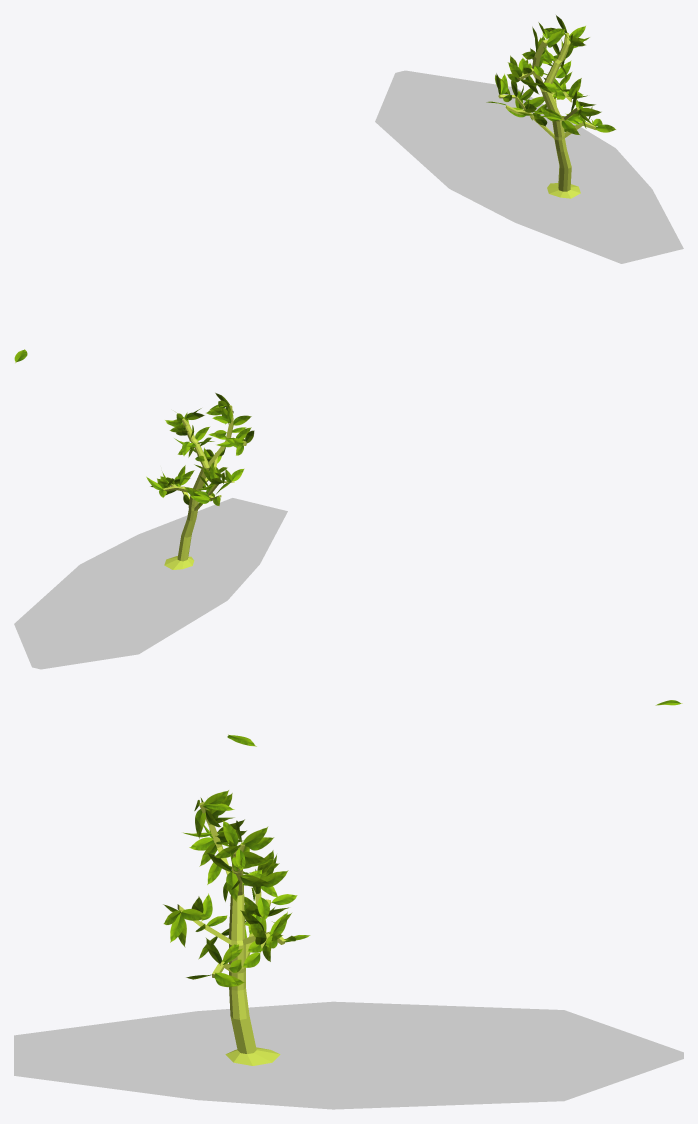
File: green_stalk.glb
3 renders of one model, top to bottom at view 1: azimuth 30°, elevation 25°; view 2: azimuth 150°, elevation 25°; view 3: azimuth 270°, elevation 25°, orthographic. The views are drawn at different scales.
Visible parts, largest first — view 1: leaves, tree; view 2: leaves, tree; view 3: leaves, tree.
Boxes of the visible parts, box(x1,y1,x2,y2) form: leaves: box(375, 70, 683, 263); tree: box(498, 32, 595, 198); leaves: box(14, 498, 287, 669); tree: box(163, 405, 246, 569); leaves: box(14, 1001, 683, 1109); tree: box(177, 801, 285, 1065).
Bounding box in the file's own units: 6.15 × 1.97 × 4.2.
2 materials, 1 textured.
